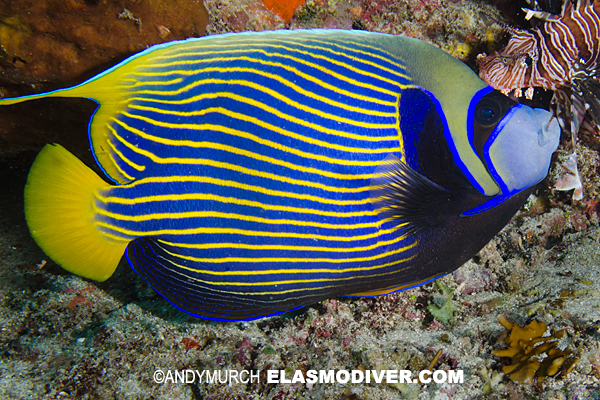Pomacanthus_imperator: (14, 11, 562, 324)
